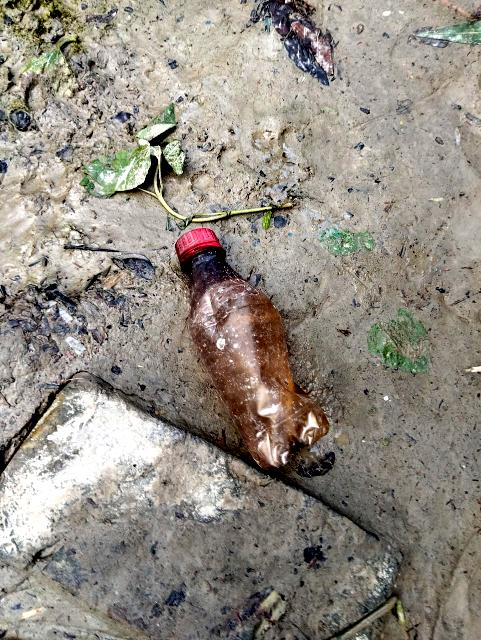bottle: (135, 203, 353, 487)
